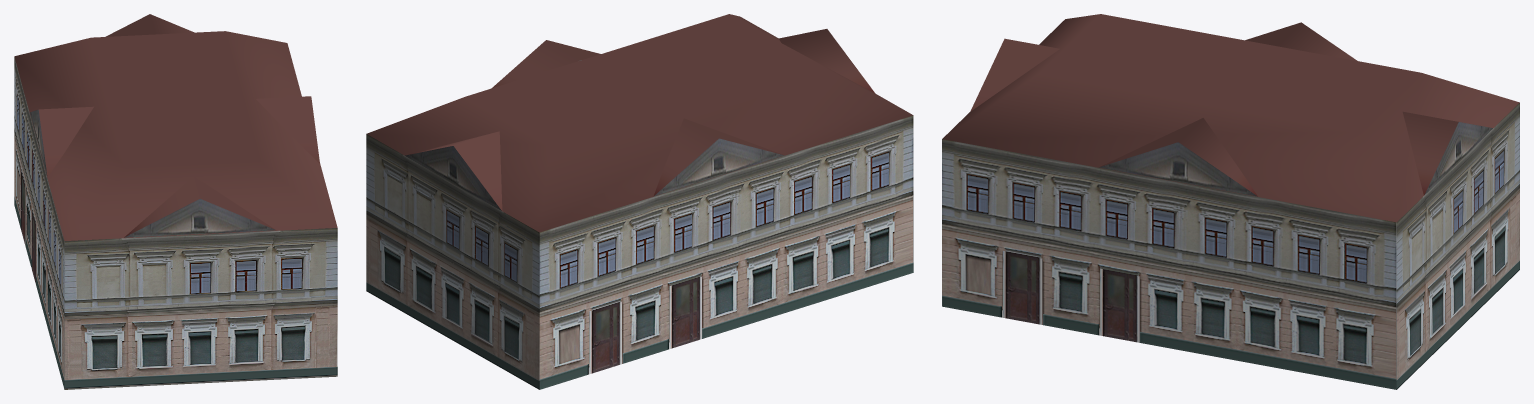
File: lp-building17.fbx
The picture shows the model from 3 angles, left to right: view 1: azimuth 30°, elevation 25°; view 2: azimuth 150°, elevation 25°; view 3: azimuth 270°, elevation 25°; orthographic projection. The views are drawn at different scales.
Parts seen in each view (by area): view 1: 01houses.012; view 2: 01houses.012; view 3: 01houses.012.
Boxes of the visible parts, x1,y1,x2,y2 form: 01houses.012: (14, 14, 337, 389); 01houses.012: (366, 14, 913, 389); 01houses.012: (942, 14, 1519, 389).
Bounding box in the file's own units: 770 × 380 × 925.
Materials: 1 (1 with a texture image).
